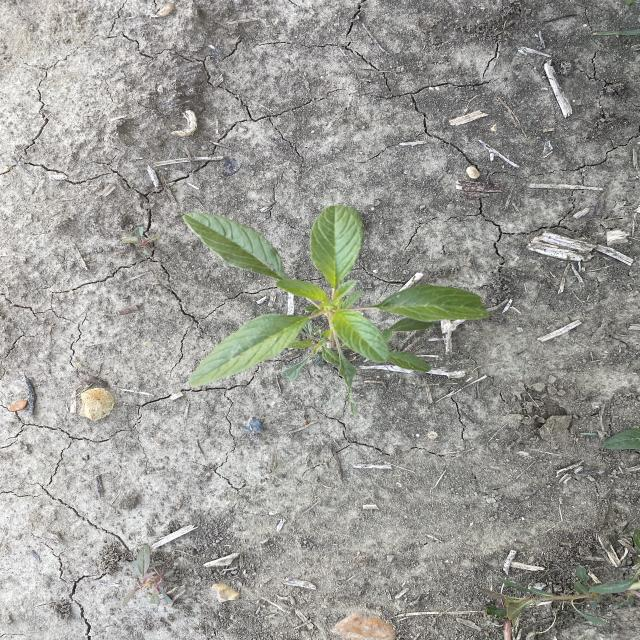Waterhemp: (180, 202, 492, 391)
